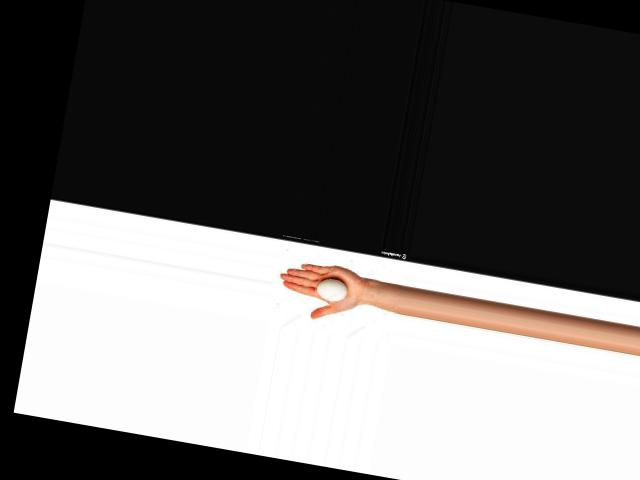egg: (315, 277, 348, 302)
